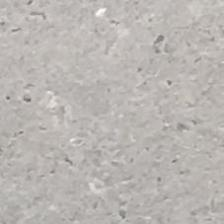Non_Crack: (18, 36, 205, 207)
